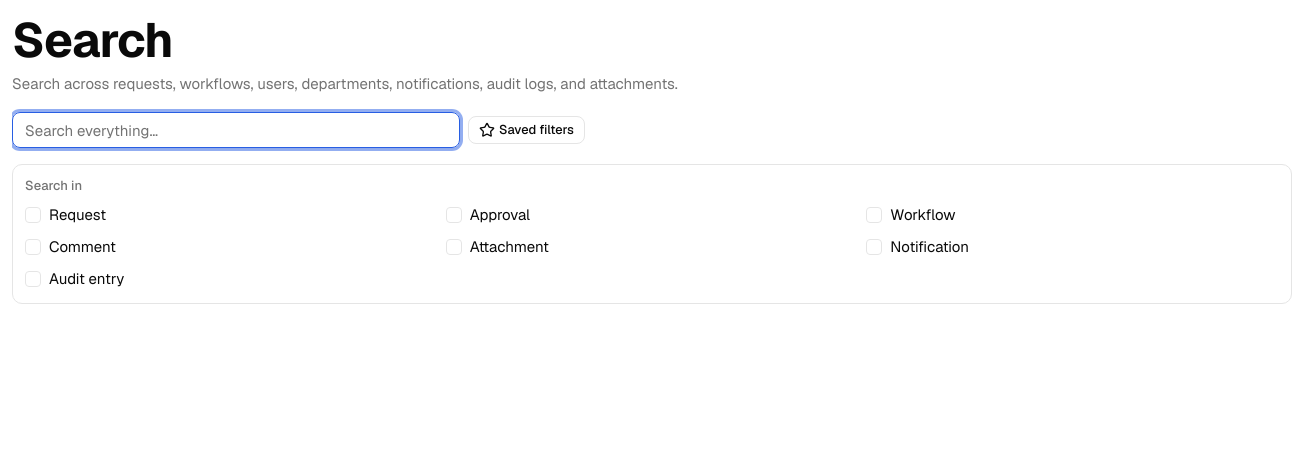
SearchPage › searches and renders grouped, highlighted results as the user types
Type "laptop" into the field labelled "Search".
click(236, 130); type("laptop")  # box [12,112,460,148]
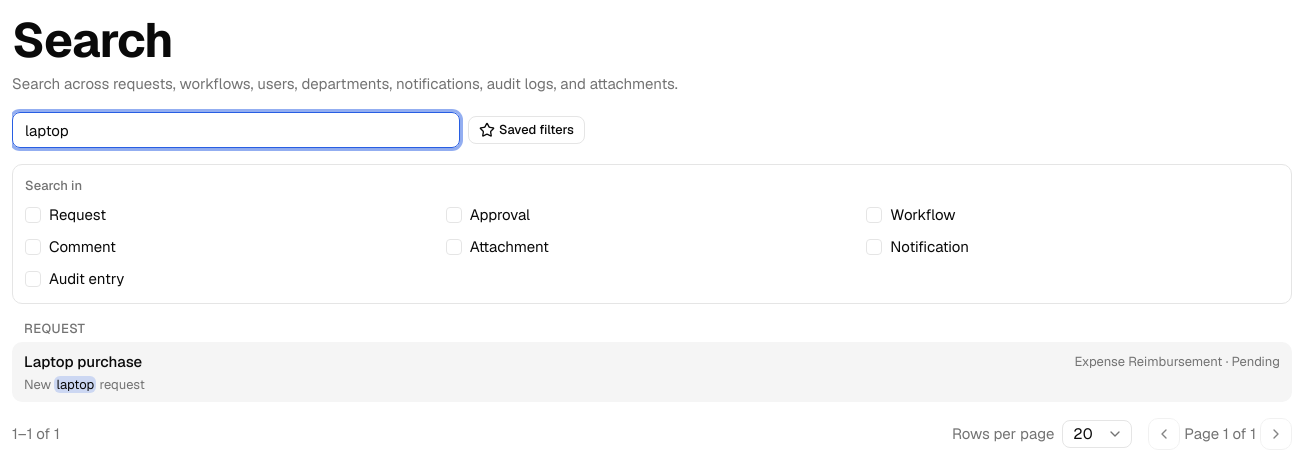
Now the text "Laptop purchase" is shown, box [24,350,142,374]
